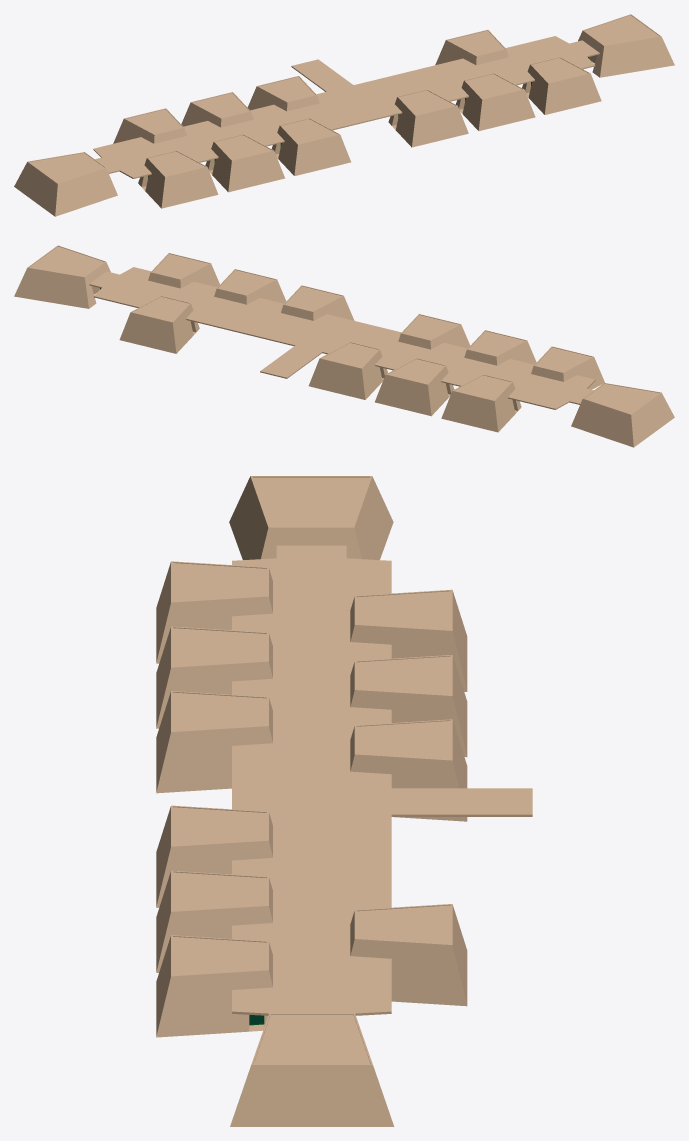
File: amphis cote nv bloc.gltf
The picture shows the model from 3 angles, top to bottom: view 1: azimuth 30°, elevation 25°; view 2: azimuth 150°, elevation 25°; view 3: azimuth 270°, elevation 25°; orthographic projection. The views are drawn at different scales.
Parts seen in each view (by area): view 1: amphiM-X; view 2: amphiM-X; view 3: amphiM-X.
Boxes of the visible parts, x1=… form: amphiM-X: x1=14, y1=14, x2=674, y2=216; amphiM-X: x1=14, y1=245, x2=674, y2=447; amphiM-X: x1=156, y1=476, x2=532, y2=1126.
Size of the model in its own units: 247 by 10.26 by 64.87.
Materials: 1 (1 with a texture image).
